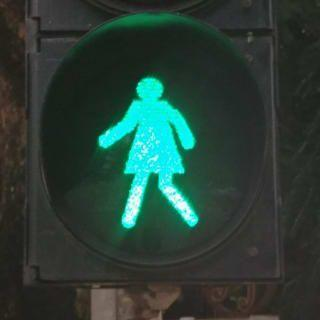green: (18, 0, 295, 292)
